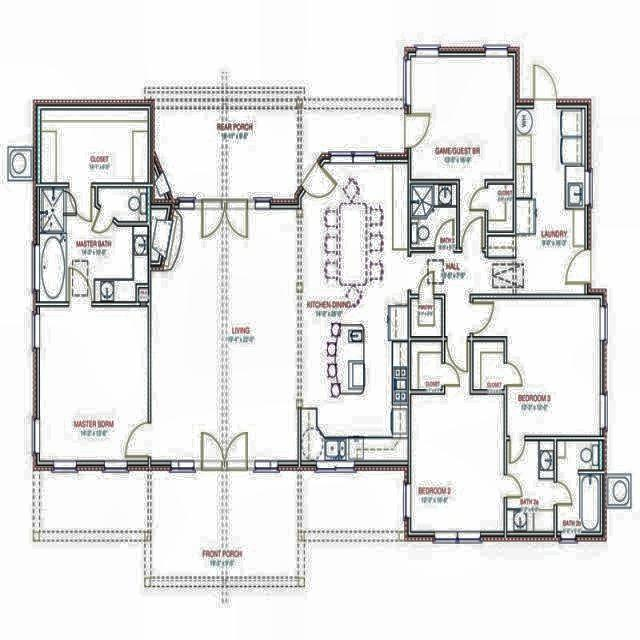room: (152, 164, 407, 461), (410, 57, 515, 250), (473, 298, 600, 436), (39, 307, 147, 462), (516, 109, 585, 293), (411, 395, 504, 531), (67, 189, 147, 302), (42, 110, 148, 182), (410, 252, 512, 295), (508, 440, 554, 530), (558, 441, 599, 531), (411, 185, 457, 246), (40, 188, 64, 301), (446, 301, 469, 393), (474, 340, 504, 389), (411, 343, 442, 388), (411, 298, 442, 336), (488, 185, 513, 231), (488, 237, 514, 256)
